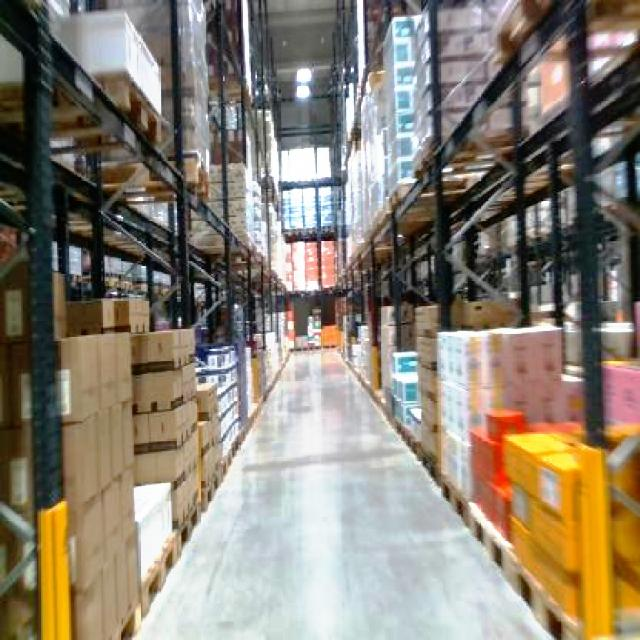ground: (108, 342, 583, 638)
pallet: (334, 0, 638, 638), (366, 295, 638, 638), (0, 269, 246, 638), (502, 422, 638, 638)
